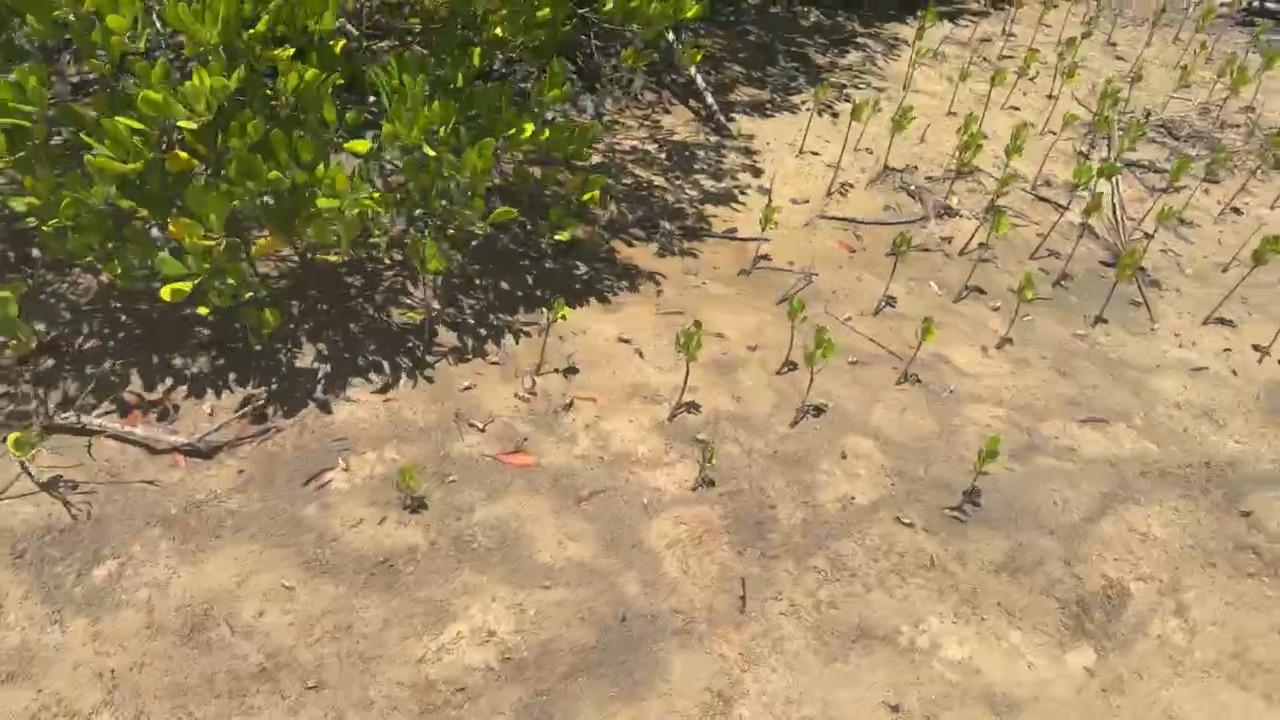Tree: (1201, 236, 1277, 326), (1028, 164, 1093, 259), (957, 172, 1022, 258), (952, 207, 1009, 302), (1056, 191, 1107, 286), (1218, 137, 1280, 215), (1092, 245, 1144, 331), (827, 99, 868, 196), (1136, 158, 1192, 225), (873, 231, 915, 315), (956, 434, 1001, 510), (1030, 112, 1077, 183), (998, 271, 1039, 349), (944, 131, 990, 199), (1125, 5, 1167, 79), (799, 325, 835, 411), (1182, 147, 1231, 210), (894, 316, 938, 384), (901, 7, 937, 90), (1166, 40, 1211, 105), (1086, 78, 1121, 161), (673, 323, 707, 407), (0, 432, 42, 497), (893, 45, 933, 113), (1174, 3, 1217, 65), (799, 80, 833, 157), (1042, 62, 1077, 135), (1002, 49, 1041, 111), (537, 298, 570, 370), (777, 297, 807, 375), (883, 104, 916, 171), (1214, 66, 1252, 123), (977, 66, 1008, 133), (998, 122, 1029, 185), (1249, 44, 1280, 104), (1223, 225, 1262, 272), (1205, 48, 1235, 108), (751, 204, 778, 267), (1142, 205, 1175, 256), (853, 97, 886, 147), (1049, 38, 1076, 99), (1113, 120, 1147, 164), (1027, 0, 1054, 51), (946, 66, 972, 116), (394, 466, 423, 510), (1090, 158, 1126, 193), (1001, 0, 1024, 50), (953, 112, 979, 154), (692, 444, 716, 488), (1172, 0, 1196, 44), (1243, 28, 1270, 62), (1055, 0, 1075, 45), (1258, 326, 1280, 365), (1125, 64, 1142, 111), (1071, 27, 1094, 60), (1105, 19, 1115, 46), (1270, 195, 1280, 209)
